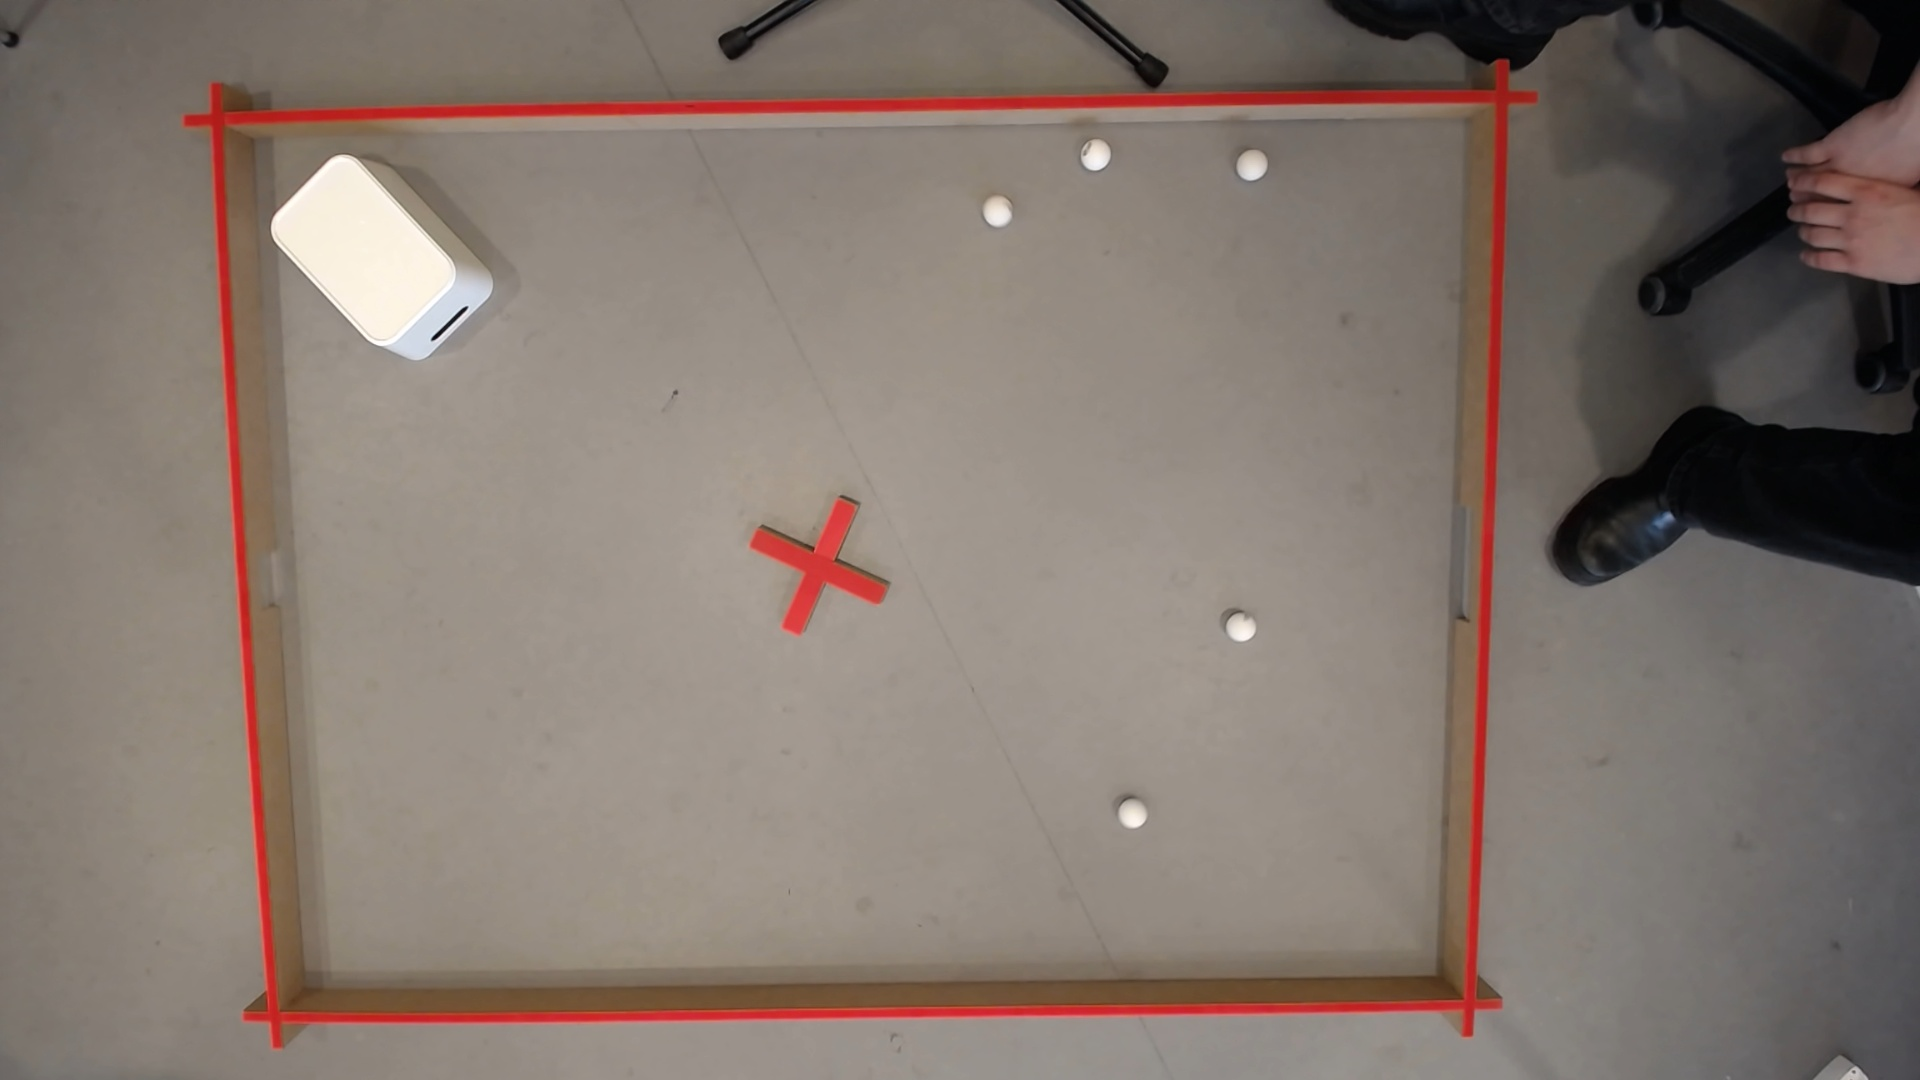balls: (256, 144, 493, 378), (1077, 136, 1116, 175), (978, 195, 1014, 231), (1236, 152, 1267, 185), (1228, 617, 1255, 641)
car: (1116, 799, 1149, 831)
